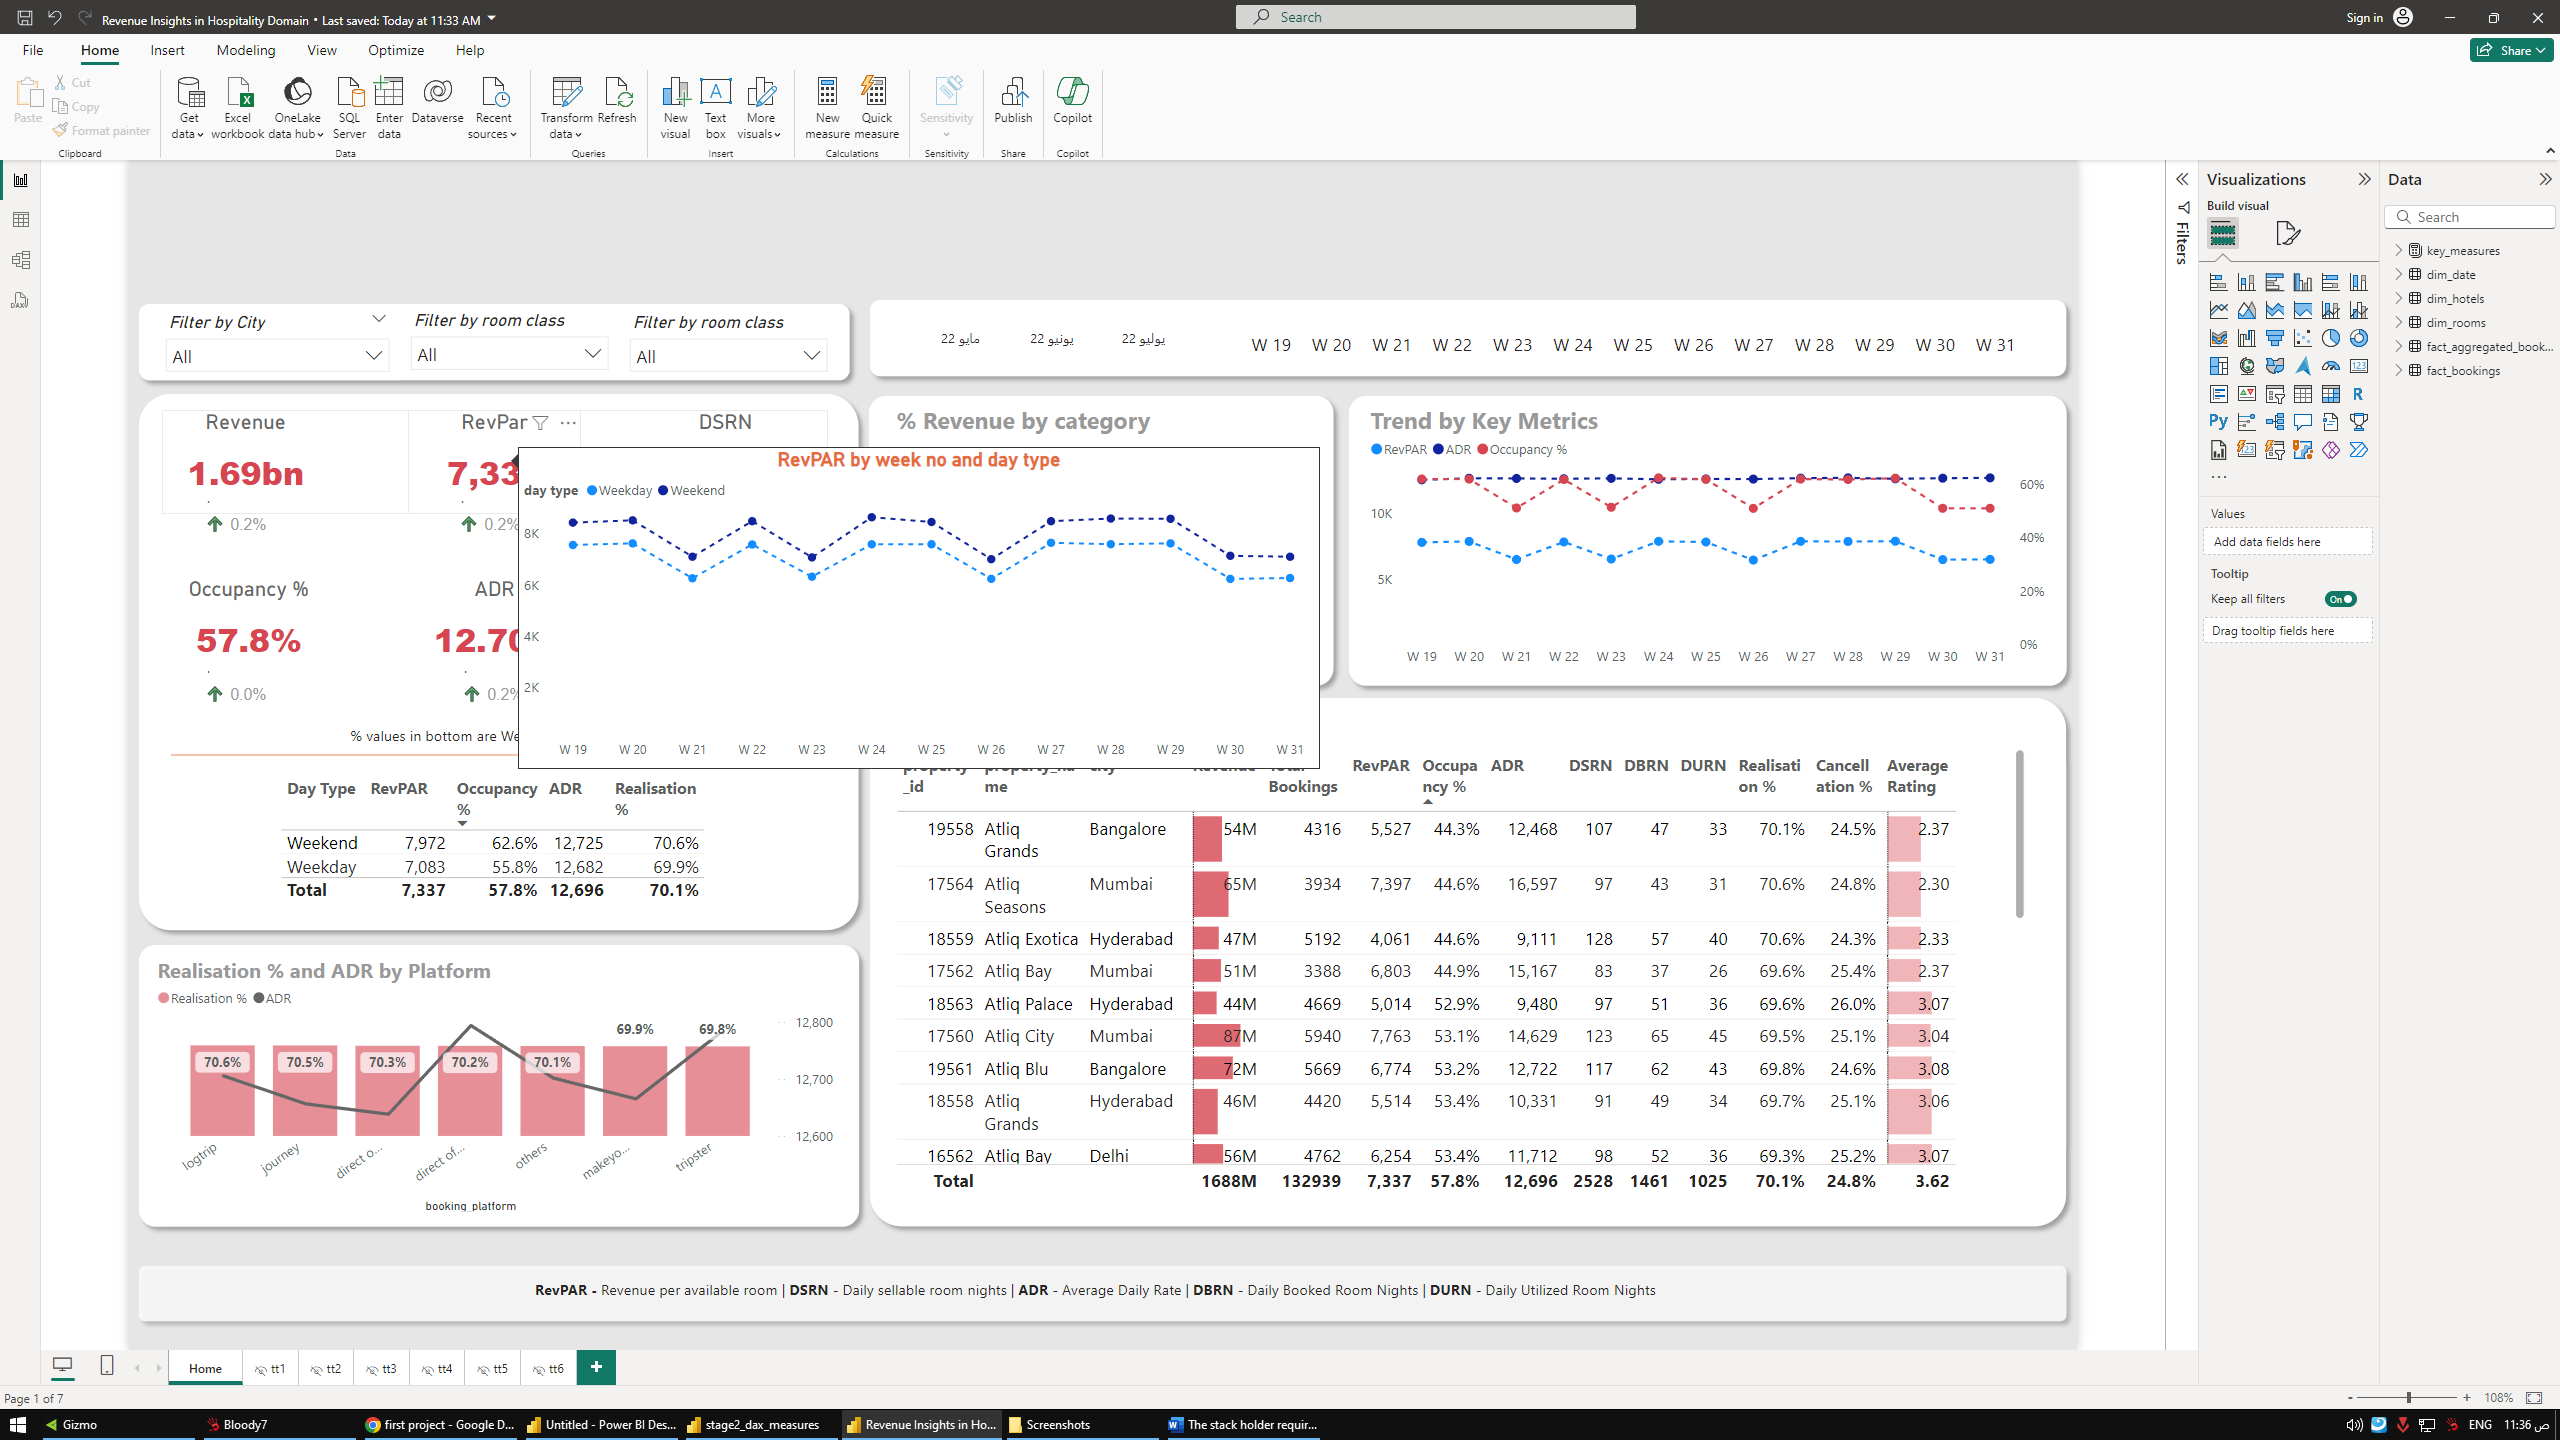

This screenshot's page, from the dashboard's own definition file:
{"tool":"powerbi","page":{"name":"Page 1","canvas":[1280,720],"ordinal":0},"visuals":[{"type":"tableEx","fields":{"Values":["dim_hotels.property_id","dim_hotels.property_name","key_measures.Revenue","key_measures.Total Bookings","key_measures.RevPAR","key_measures.Occupancy %","key_measures.ADR","key_measures.DSRN","key_measures.DBRN","key_measures.DURN","key_measures.Realisation %","key_measures.Cancellation %"]},"box":[277.8,248.5,987.6,446.6],"z":0},{"type":"advancedSlicerVisual","title":"filter by city ","fields":{"Values":["dim_hotels.city"]},"box":[0,113.9,478.8,62.1],"z":1000},{"type":"advancedSlicerVisual","title":"filter by room type","fields":{"Values":["dim_rooms.room_class"]},"box":[0,51.2,555.5,69.4],"z":2000},{"type":"advancedSlicerVisual","fields":{"Values":["dim_date.mmm yy"]},"box":[552.5,64.6,238.8,56],"z":3000},{"type":"advancedSlicerVisual","fields":{"Values":["dim_date.week no"]},"box":[0,0,1104.8,51],"z":4000},{"type":"card","title":"Revenue","fields":{"Values":["key_measures.Revenue"]},"box":[0,176.5,127.4,87.9],"z":5000},{"type":"tableEx","fields":{"Values":["key_measures.Revenue WoW change %"]},"box":[15.9,248.5,107,59.9],"z":6000},{"type":"donutChart","fields":{"Category":["dim_hotels.category"],"Y":["key_measures.Occupancy %"]},"box":[997.1,52.9,257.4,182.2],"z":6001}]}

Visuals, with their boxes on the page's 1280x720 design canvas (x1, y1, x2, y2). These are canvas units, not pixel positions in the 2560x1440 screenshot, which may show the page scaled, cropped or inside an application window:
tableEx - dim_hotels.property_id x dim_hotels.property_name: 278,248,1265,695
"filter by city " advancedSlicerVisual: 0,114,479,176
"filter by room type" advancedSlicerVisual: 0,51,556,121
advancedSlicerVisual - dim_date.mmm yy: 552,65,791,121
advancedSlicerVisual - dim_date.week no: 0,0,1105,51
"Revenue" card: 0,176,127,264
tableEx - key_measures.Revenue WoW change %: 16,248,123,308
donutChart - dim_hotels.category x key_measures.Occupancy %: 997,53,1254,235
